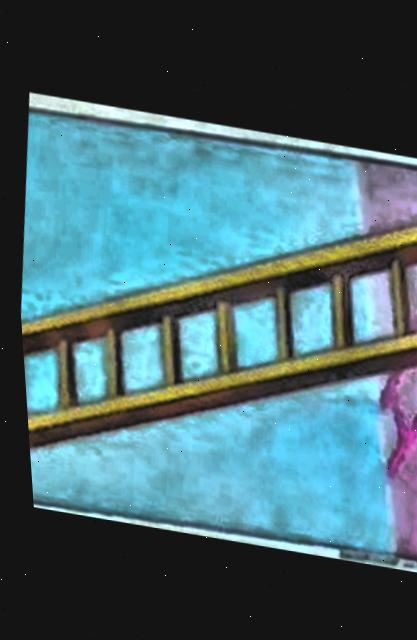La Escalera: (16, 111, 417, 556)
